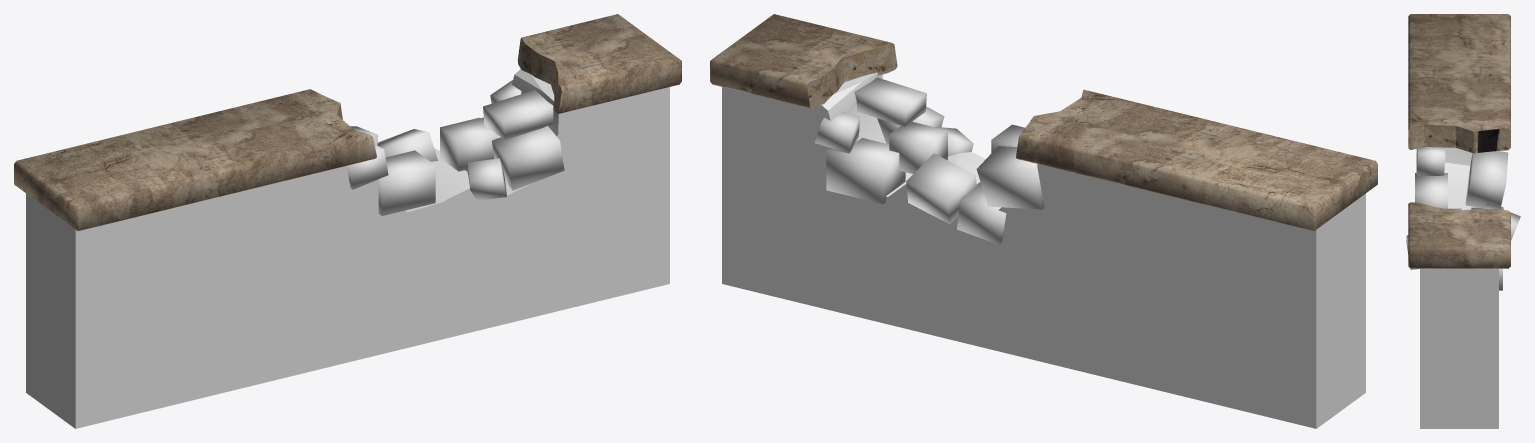
The model's file is wall3_old.fbx.
3 renders of one model, left to right at view 1: azimuth 30°, elevation 25°; view 2: azimuth 150°, elevation 25°; view 3: azimuth 270°, elevation 25°, orthographic. The views are drawn at different scales.
Visible parts, largest first — view 1: polySurface65; view 2: polySurface65; view 3: polySurface65.
Boxes of the visible parts, x1=… form: polySurface65: x1=14, y1=14, x2=681, y2=428; polySurface65: x1=710, y1=14, x2=1377, y2=428; polySurface65: x1=1406, y1=14, x2=1520, y2=428.
Size of the model in its own units: 6.28 by 2.26 by 1.29.
